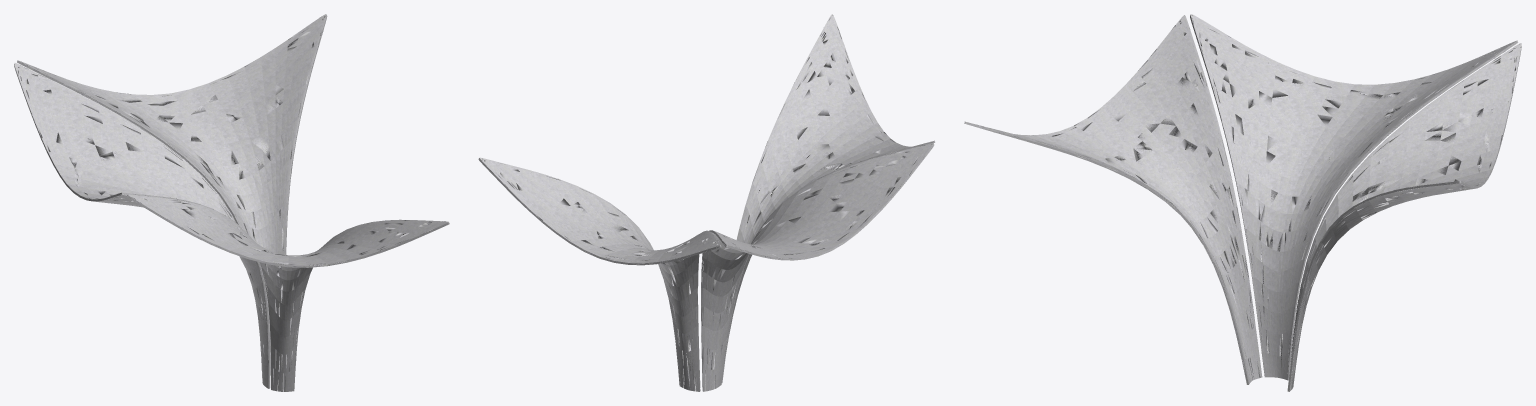
File: Conface.glb
The picture shows the model from 3 angles, left to right: view 1: azimuth 30°, elevation 25°; view 2: azimuth 150°, elevation 25°; view 3: azimuth 270°, elevation 25°; orthographic projection. The views are drawn at different scales.
Parts seen in each view (by area): view 1: ID267; view 2: ID267; view 3: ID267.
Part boxes in pixels (<box>): ID267: <box>14,14,449,391</box>; ID267: <box>478,14,935,391</box>; ID267: <box>964,14,1521,391</box>.
Size of the model in its own units: 35.23 by 26.62 by 49.46.
Materials: 1 (1 with a texture image).
